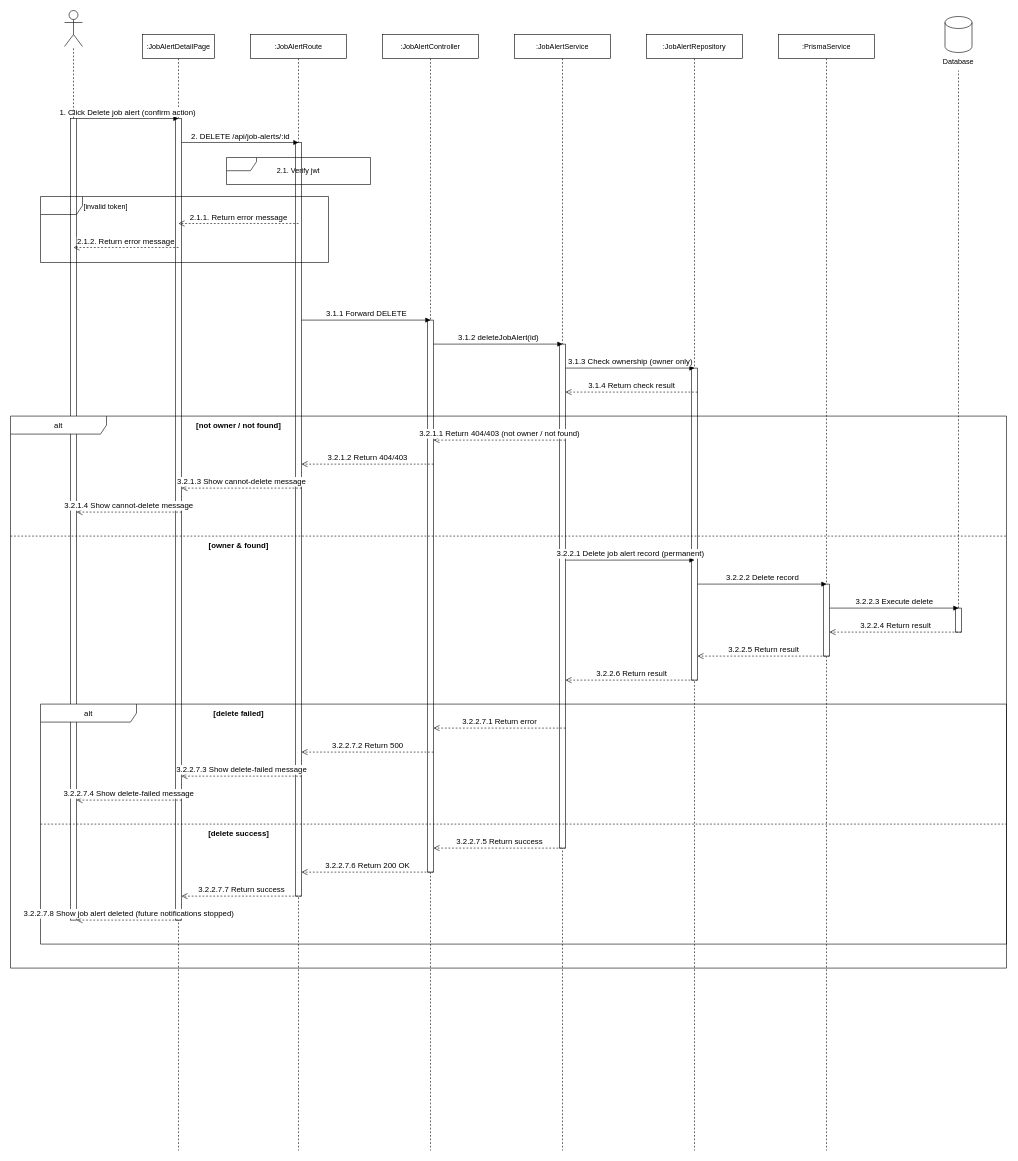
The diagram is 1018 pixels wide and 1161 high, and some of its shapes have lost their labels. Each missing label, with the box of its shape:
Freelancer: (64, 10, 82, 46)
opt: (40, 196, 328, 262)
ref: (226, 157, 370, 184)
